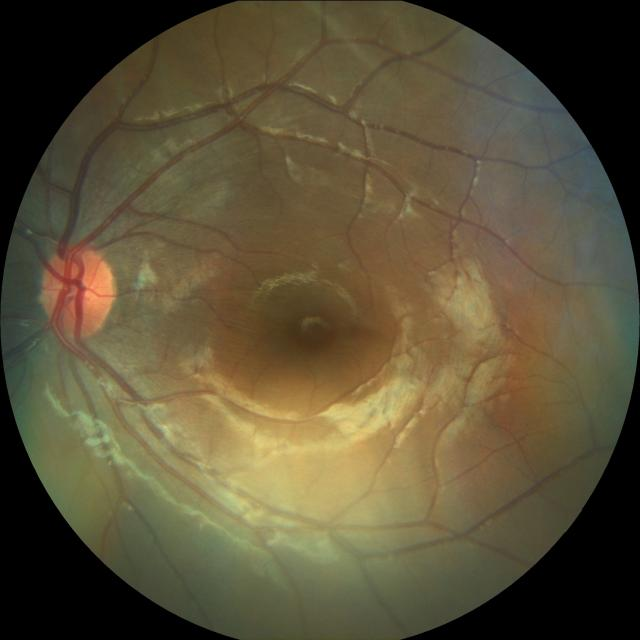OC: (64, 272, 98, 306)
OD: (40, 245, 114, 335)
